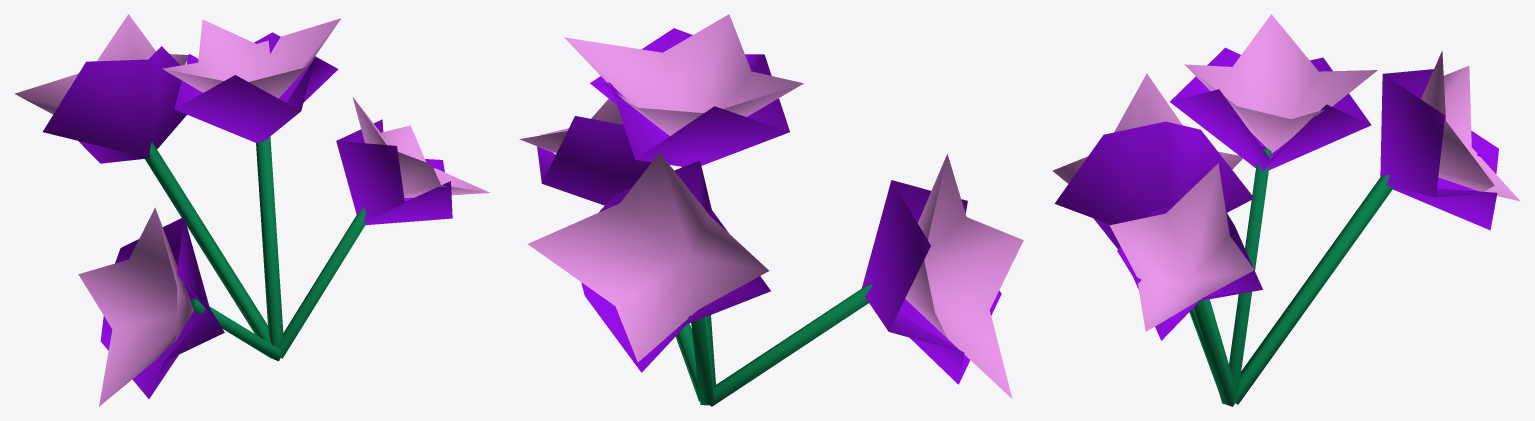
File: flower_1.fbx
3 renders of one model, left to right at view 1: azimuth 30°, elevation 25°; view 2: azimuth 150°, elevation 25°; view 3: azimuth 270°, elevation 25°, orthographic. The views are drawn at different scales.
Parts seen in each view (by area): view 1: pasted__polySurface4, pasted__polySurface12, pasted__polySurface9, pasted__polySurface1, pasted__polySurface2, pasted__polySurface3, pasted__polySurface6, pasted__polySurface11, pasted__polySurface5, pasted__polySurface10, pasted__polySurface7, pasted__polySurface8; view 2: pasted__polySurface10, pasted__polySurface12, pasted__polySurface9, pasted__polySurface3, pasted__polySurface1, pasted__polySurface2, pasted__polySurface4, pasted__polySurface8, pasted__polySurface6, pasted__polySurface11, pasted__polySurface7; view 3: pasted__polySurface3, pasted__polySurface11, pasted__polySurface9, pasted__polySurface4, pasted__polySurface1, pasted__polySurface10, pasted__polySurface6, pasted__polySurface5, pasted__polySurface12, pasted__polySurface7, pasted__polySurface2.
Part boxes in pixels (left/top/right/bottom): pasted__polySurface4: left=43, top=46, right=186, bottom=163; pasted__polySurface12: left=78, top=207, right=193, bottom=406; pasted__polySurface9: left=162, top=18, right=340, bottom=98; pasted__polySurface1: left=174, top=32, right=338, bottom=143; pasted__polySurface2: left=336, top=119, right=452, bottom=225; pasted__polySurface3: left=100, top=217, right=224, bottom=398; pasted__polySurface6: left=143, top=142, right=271, bottom=344; pasted__polySurface11: left=352, top=97, right=489, bottom=197; pasted__polySurface5: left=256, top=136, right=283, bottom=347; pasted__polySurface10: left=14, top=14, right=188, bottom=114; pasted__polySurface7: left=278, top=207, right=366, bottom=358; pasted__polySurface8: left=191, top=298, right=280, bottom=361; pasted__polySurface10: left=528, top=152, right=768, bottom=362; pasted__polySurface12: left=905, top=154, right=1023, bottom=398; pasted__polySurface9: left=564, top=14, right=803, bottom=135; pasted__polySurface3: left=861, top=180, right=1001, bottom=384; pasted__polySurface1: left=590, top=28, right=789, bottom=166; pasted__polySurface2: left=537, top=116, right=651, bottom=205; pasted__polySurface4: left=581, top=160, right=770, bottom=372; pasted__polySurface8: left=710, top=284, right=872, bottom=406; pasted__polySurface6: left=691, top=317, right=714, bottom=405; pasted__polySurface11: left=519, top=99, right=623, bottom=153; pasted__polySurface7: left=675, top=323, right=699, bottom=401; pasted__polySurface3: left=1054, top=121, right=1252, bottom=249; pasted__polySurface11: left=1109, top=163, right=1254, bottom=331; pasted__polySurface9: left=1184, top=14, right=1377, bottom=152; pasted__polySurface4: left=1380, top=69, right=1498, bottom=230; pasted__polySurface1: left=1170, top=47, right=1371, bottom=171; pasted__polySurface10: left=1421, top=51, right=1520, bottom=201; pasted__polySurface6: left=1235, top=174, right=1393, bottom=404; pasted__polySurface5: left=1229, top=147, right=1271, bottom=402; pasted__polySurface12: left=1052, top=73, right=1242, bottom=183; pasted__polySurface7: left=1194, top=299, right=1235, bottom=406; pasted__polySurface2: left=1117, top=206, right=1262, bottom=340.
Bounding box in the file's own units: 6.41 × 4.79 × 5.94.
